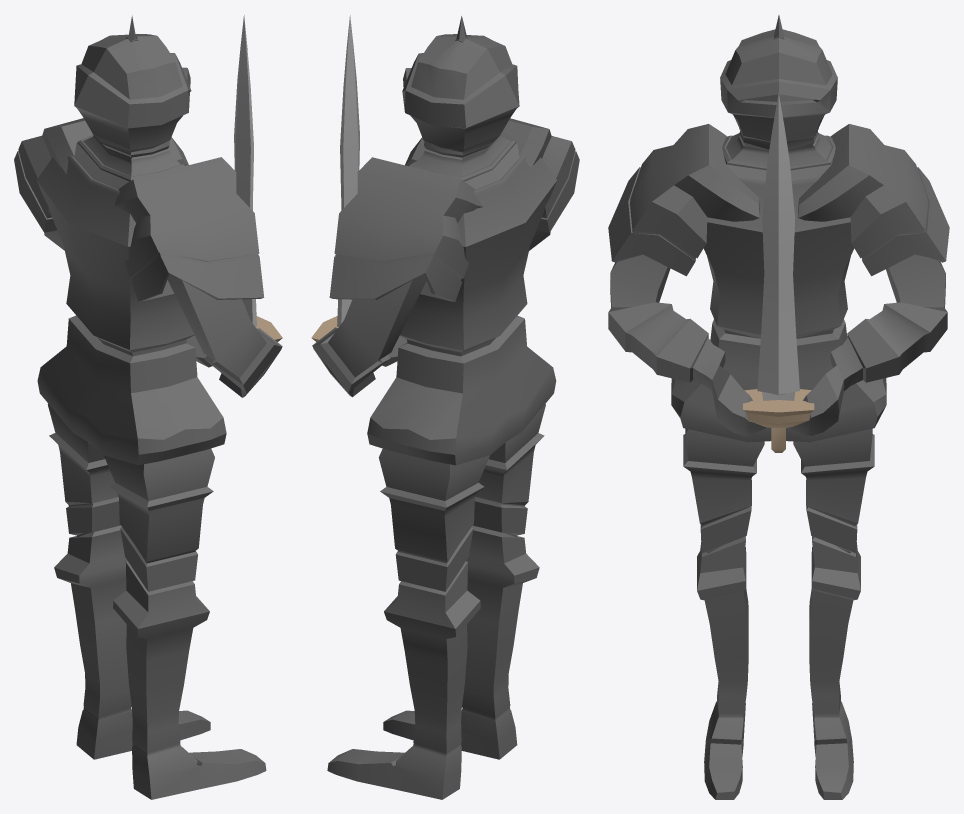
The model's file is GUARD1.fbx.
3 renders of one model, left to right at view 1: azimuth 30°, elevation 25°; view 2: azimuth 150°, elevation 25°; view 3: azimuth 270°, elevation 25°, orthographic. The views are drawn at different scales.
Visible parts, largest first — view 1: Body; view 2: Body; view 3: Body.
Boxes of the visible parts, x1,y1,x2,y2 form: Body: (14, 15, 282, 799); Body: (311, 15, 579, 799); Body: (608, 15, 949, 799).
Bounding box in the file's own units: 120 × 427 × 179.
